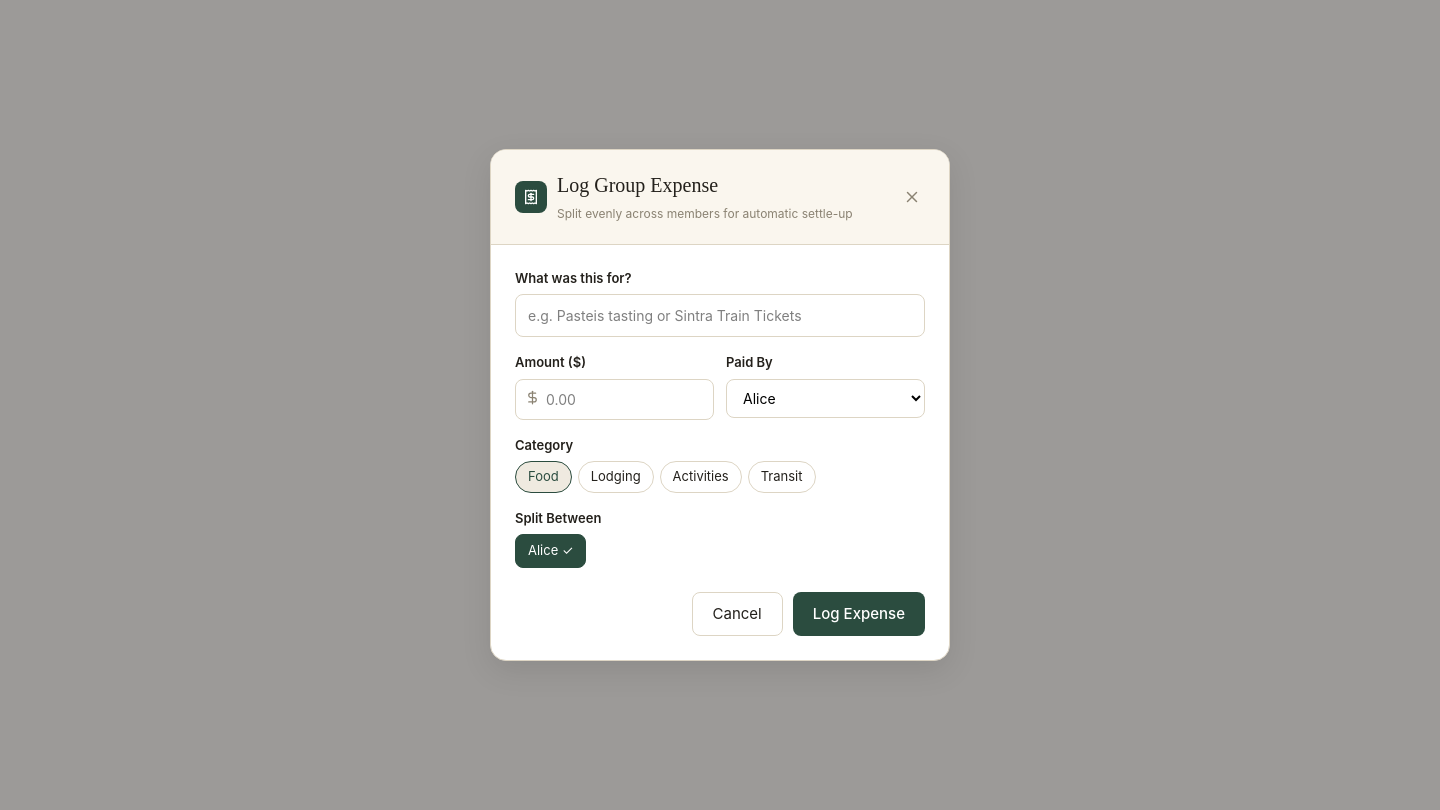
Test: expense persistence › preserves entered values and displays a failed save
Type "Lunch" into the field labelled "What was this for?" at (720, 316), box [515,294,925,337]
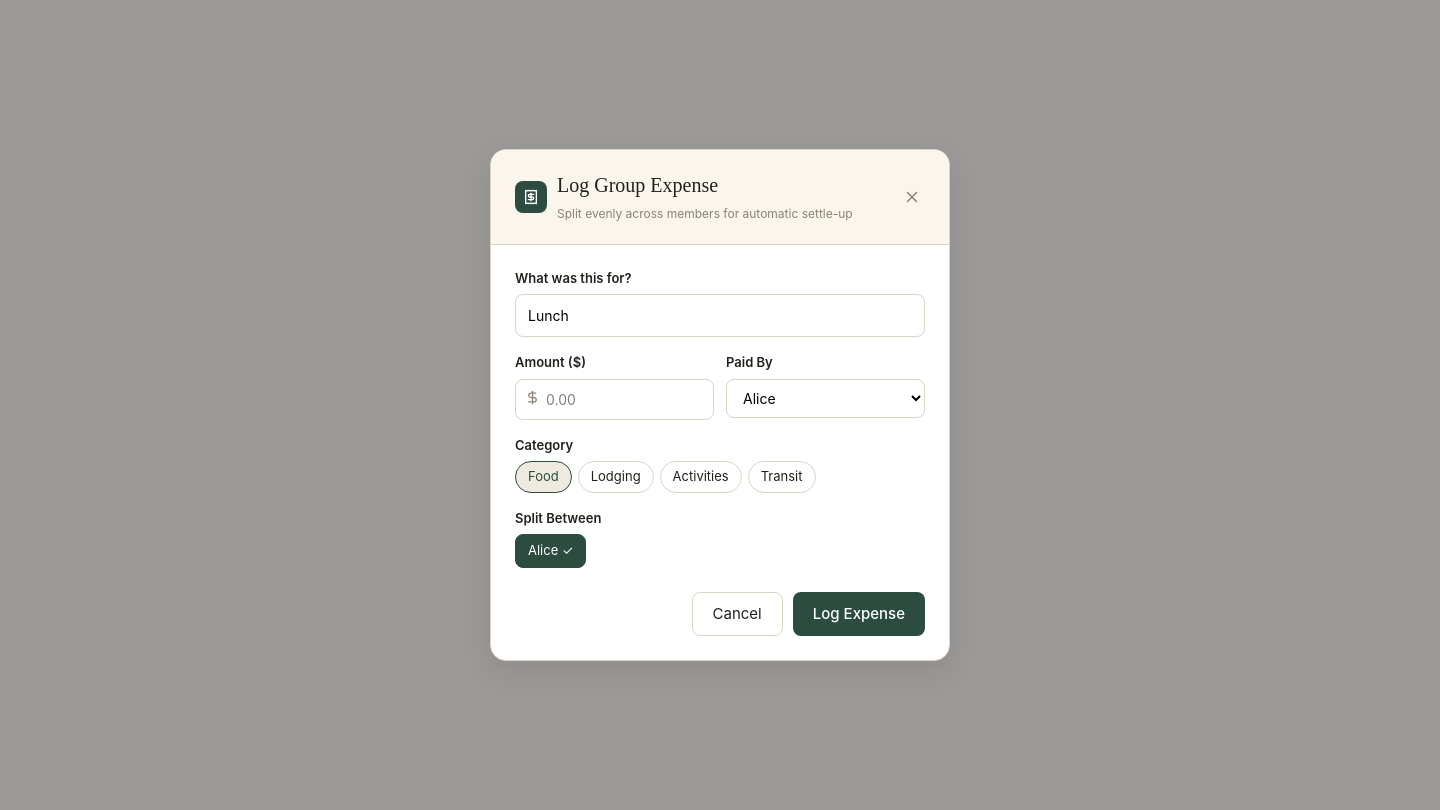
Type "12.50" into the number field labelled "Amount ($)" at (614, 399), box [515,379,714,420]
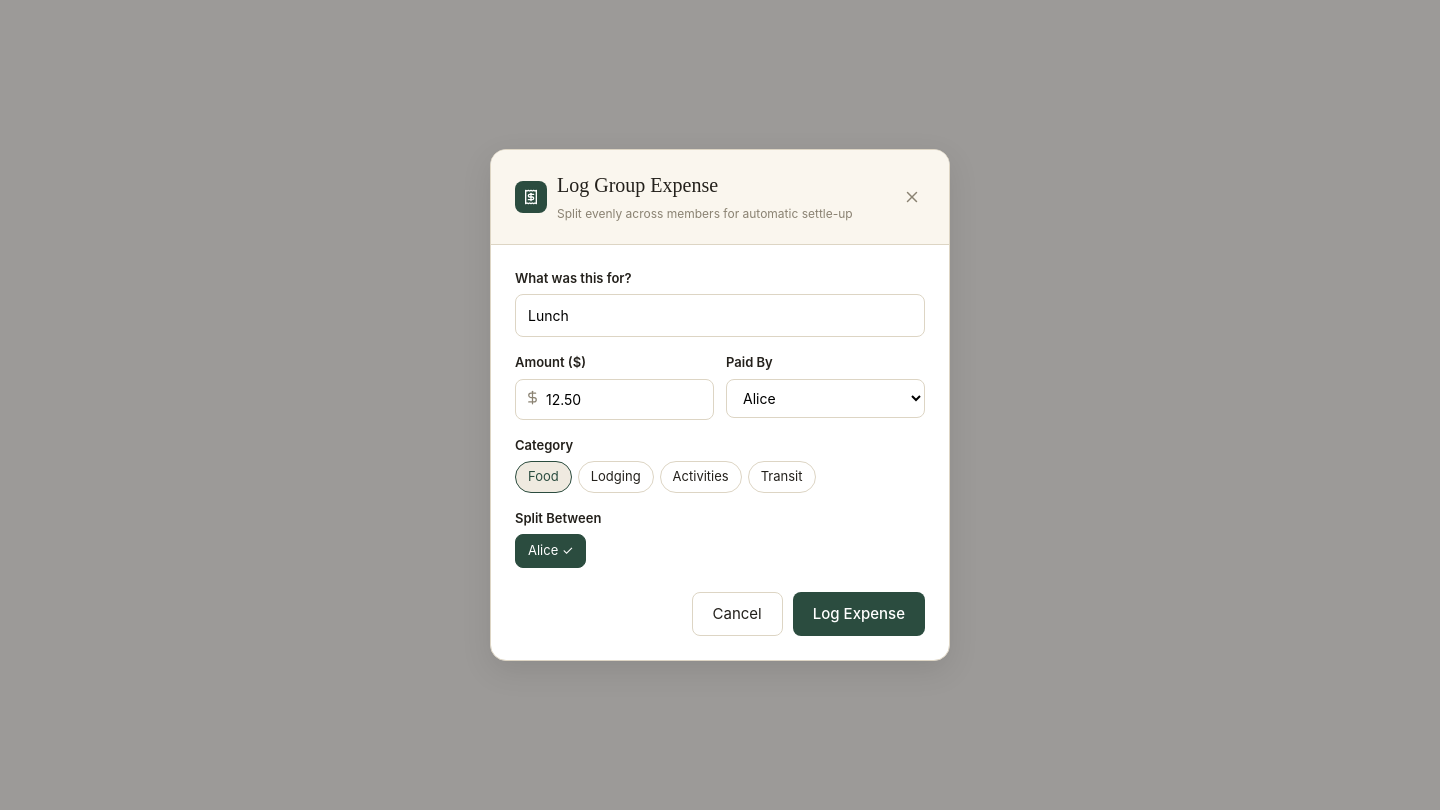
Click the button "Log Expense" at (859, 614), box [793,592,925,636]
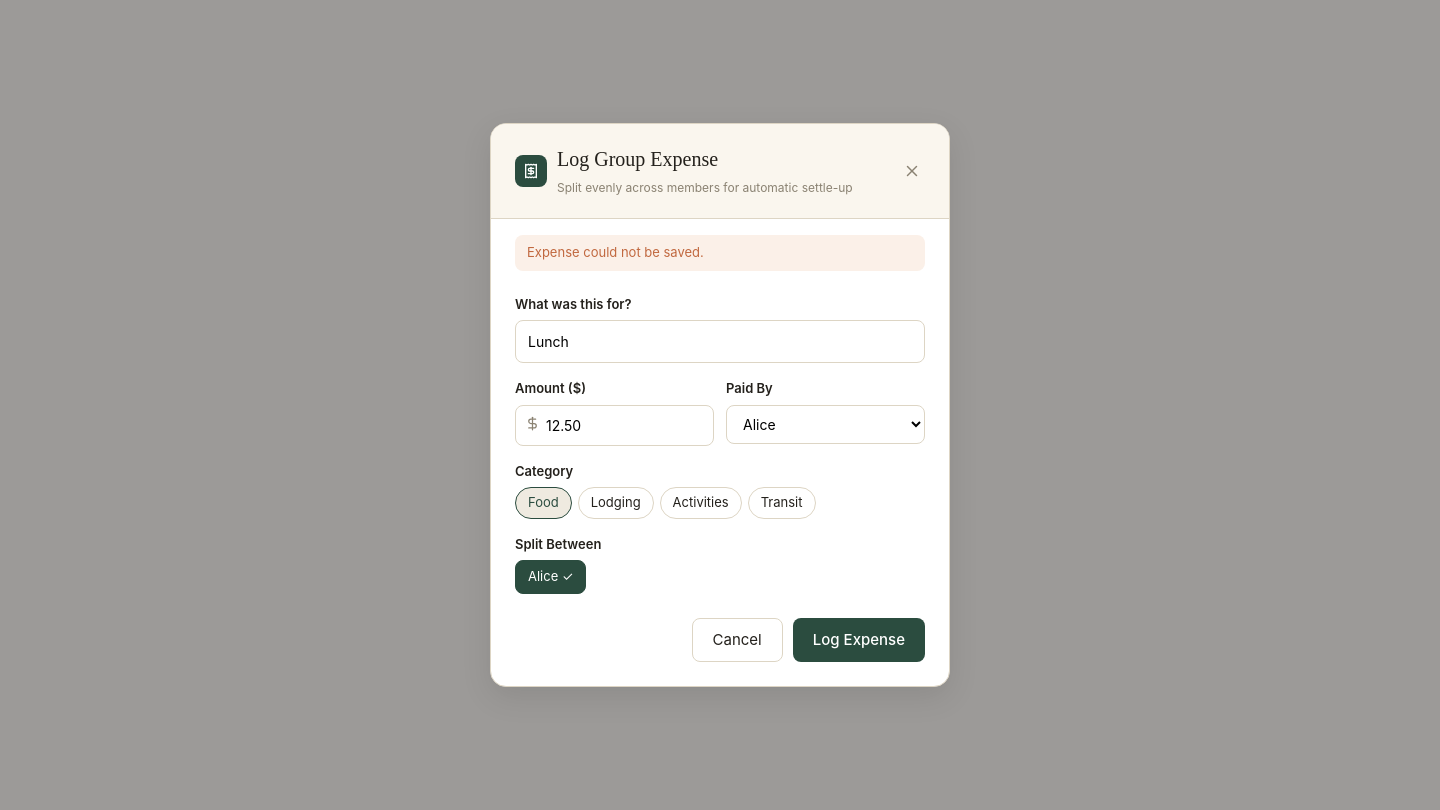
Expected: the message reads "Expense could not be saved.", [527,244,704,260]
